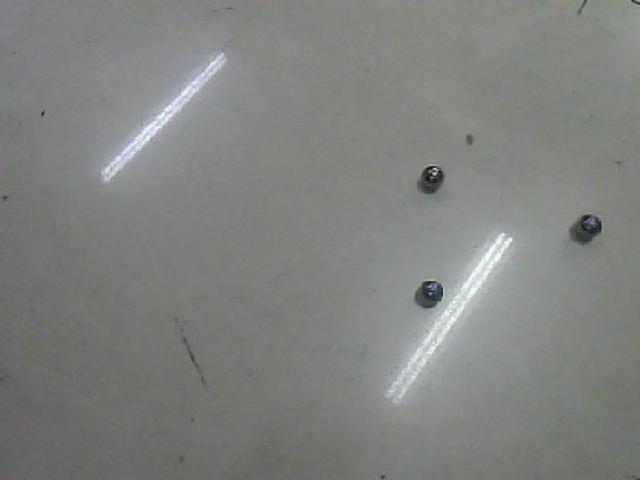steel-ball: (412, 146, 451, 197), (416, 263, 446, 311), (571, 205, 603, 249)
